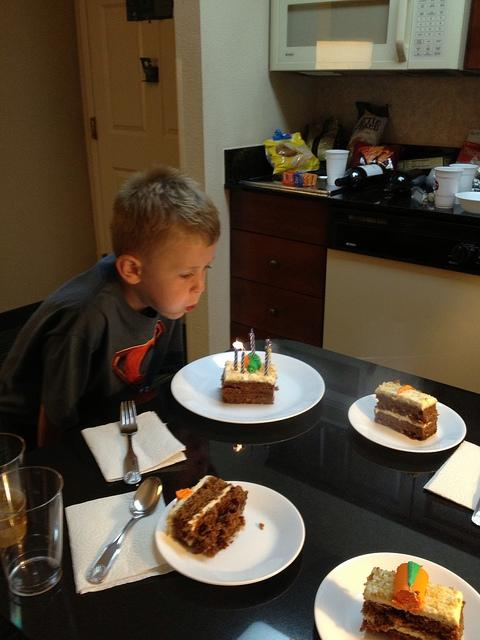carrot: (393, 562, 429, 606), (396, 385, 414, 394), (244, 354, 250, 368)
